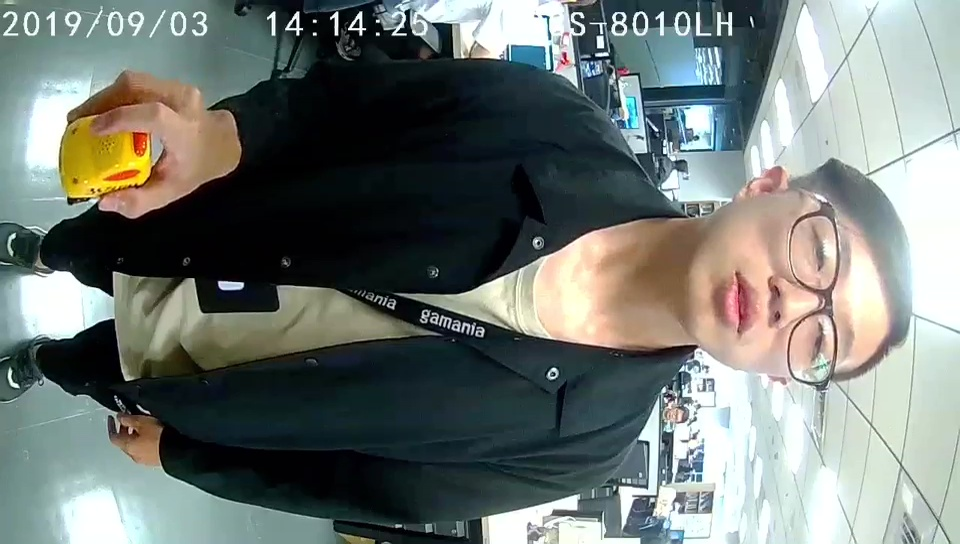car: (59, 118, 152, 199)
